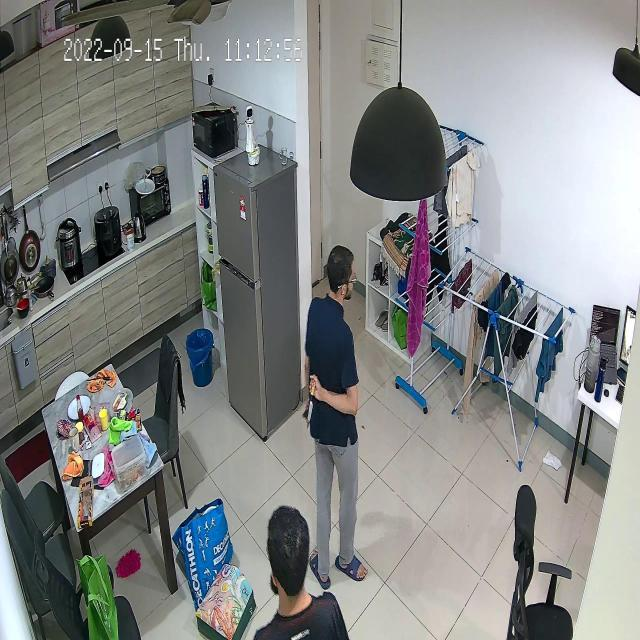Knife: (297, 370, 323, 432)
